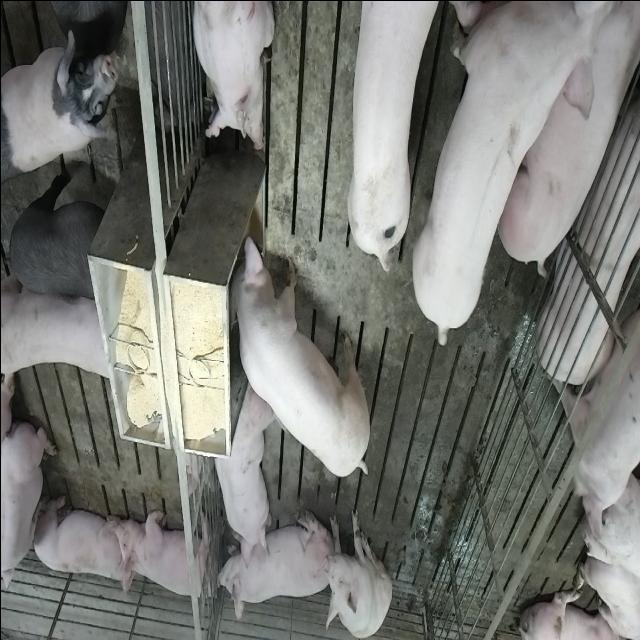Feeding: (230, 230, 374, 478)
Lateral_lying: (538, 18, 640, 386)
Sitting: (321, 504, 391, 636)
Standing: (410, 5, 601, 352), (478, 0, 603, 280), (344, 0, 435, 272), (559, 286, 640, 530), (2, 24, 121, 175), (3, 166, 108, 305), (2, 270, 120, 384)
Sternal_lying: (190, 0, 273, 154), (217, 508, 327, 622), (209, 378, 270, 562), (2, 416, 56, 602), (30, 491, 130, 590), (116, 506, 214, 604)
